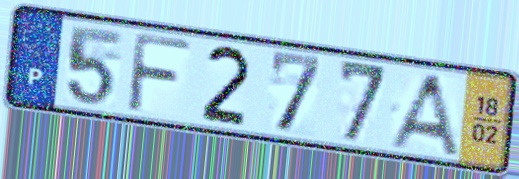2: (199, 44, 252, 129)
5: (66, 23, 127, 108)
7: (268, 48, 325, 137), (336, 57, 390, 146)
A: (384, 71, 464, 160)
F: (123, 29, 195, 117)
